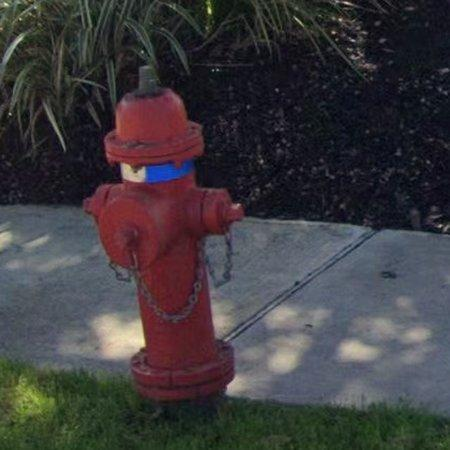a fire hydrant: (83, 66, 244, 401)
